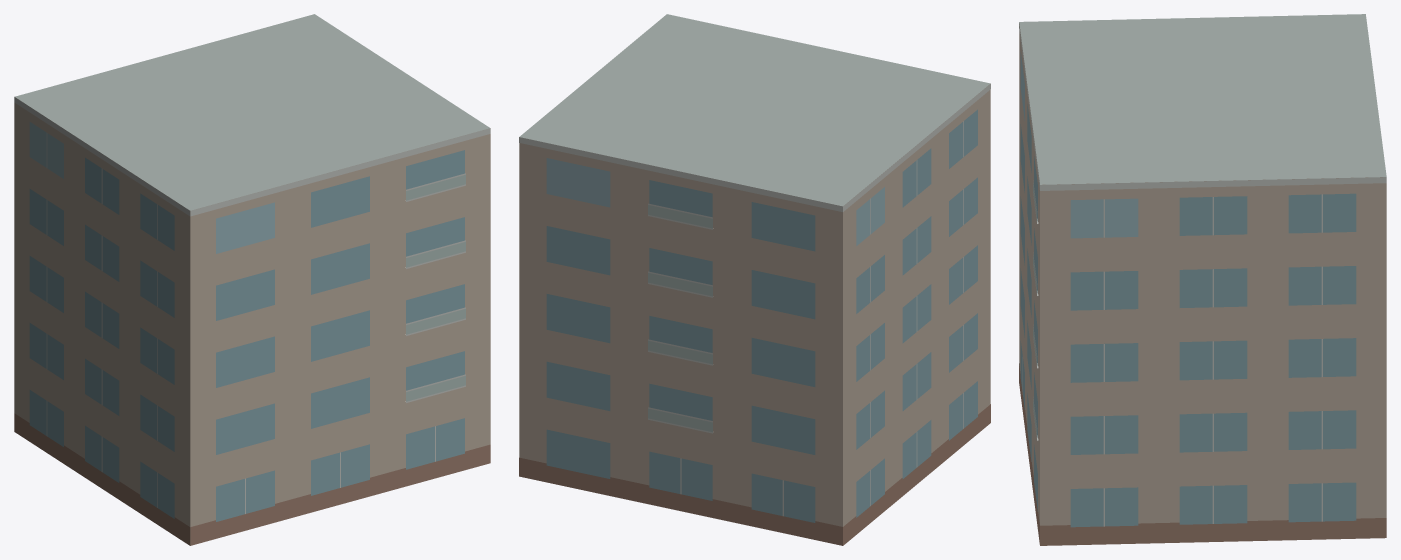
The model's file is survey-upis-32797234.glb.
The picture shows the model from 3 angles, left to right: view 1: azimuth 30°, elevation 25°; view 2: azimuth 150°, elevation 25°; view 3: azimuth 270°, elevation 25°; orthographic projection. The views are drawn at different scales.
Visible parts, largest first — view 1: survey-upis-32797234.tmp; view 2: survey-upis-32797234.tmp; view 3: survey-upis-32797234.tmp.
Part boxes in pixels (<box>): survey-upis-32797234.tmp: <box>14,14,490,545</box>; survey-upis-32797234.tmp: <box>519,14,990,545</box>; survey-upis-32797234.tmp: <box>1019,14,1386,545</box>.
Bounding box in the file's own units: 14.42 × 14.2 × 13.11.
